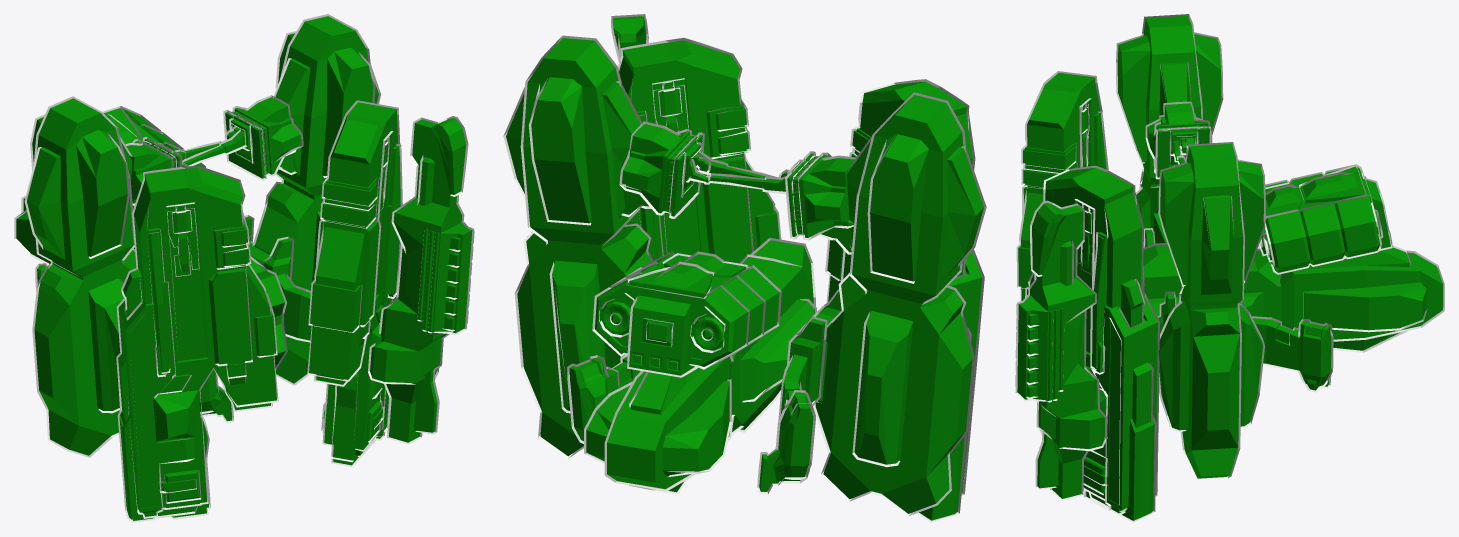
Rendered from ship20_green.glb.
3 views of the same model, side by side, from view 1: azimuth 30°, elevation 25°; view 2: azimuth 150°, elevation 25°; view 3: azimuth 270°, elevation 25° (orthographic). The views are drawn at different scales.
Visible parts, largest first — view 1: ME_ship_IndexedFaceSet; view 2: ME_ship_IndexedFaceSet; view 3: ME_ship_IndexedFaceSet.
Part boxes in pixels (x1,y1,x2,y2): ME_ship_IndexedFaceSet: [14, 14, 474, 522]; ME_ship_IndexedFaceSet: [503, 14, 986, 522]; ME_ship_IndexedFaceSet: [1015, 14, 1444, 522].
Bounding box in the file's own units: 380 × 372 × 390.
